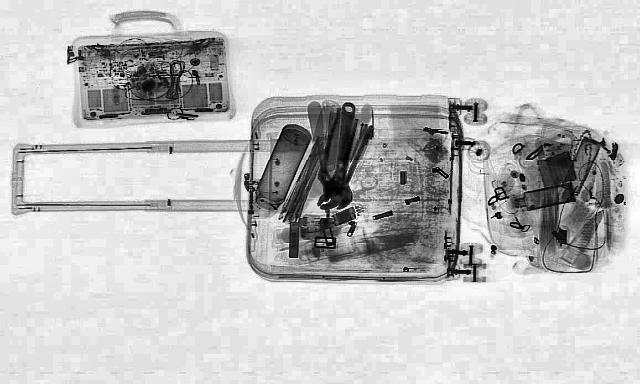Wrench: (320, 101, 364, 211)
